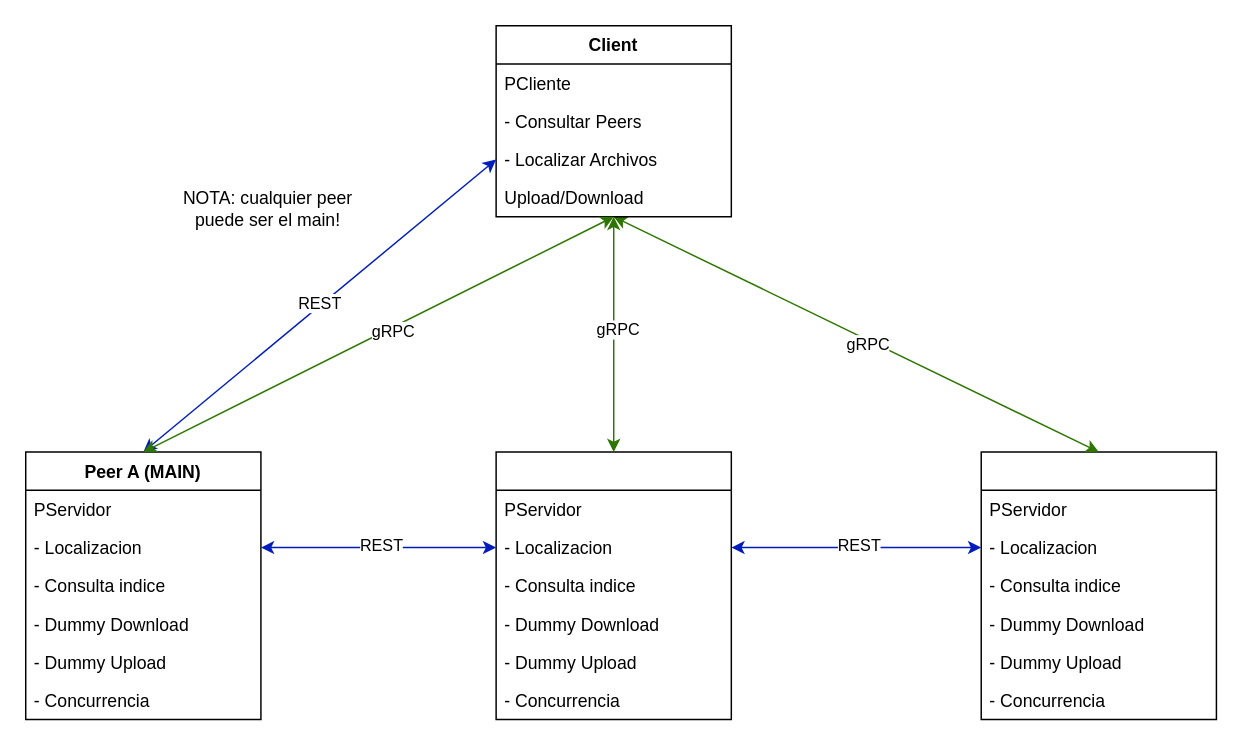
Some shapes in this 1242 by 750 pixel diagram are drawn without their labels. The box of each missing label's shape, as (x1, y1, x2, y2) in pixels:
Peer B: (495, 451, 731, 720)
Peer C: (980, 451, 1216, 720)
